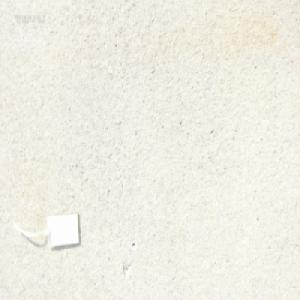LuggageTag: (10, 210, 82, 253)
